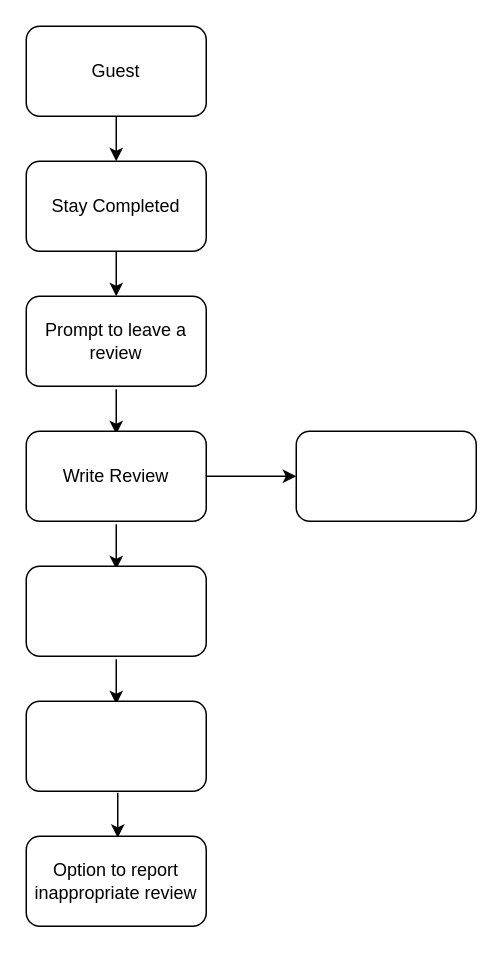
This 503x953 diagram has some shape labels left out. Each missing label, with the centre of its shape:
Other Users can read review: the point at 115,745
Review stored and Displayed on profile: the point at 115,610
Submit Review: the point at 385,475
